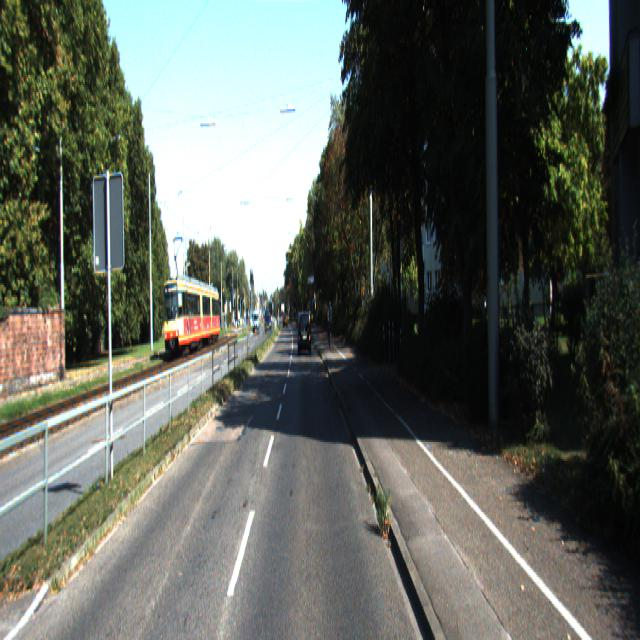Car: (163, 272, 221, 356), (298, 310, 312, 356)
